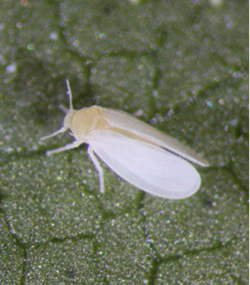whitefly: (40, 79, 209, 200)
